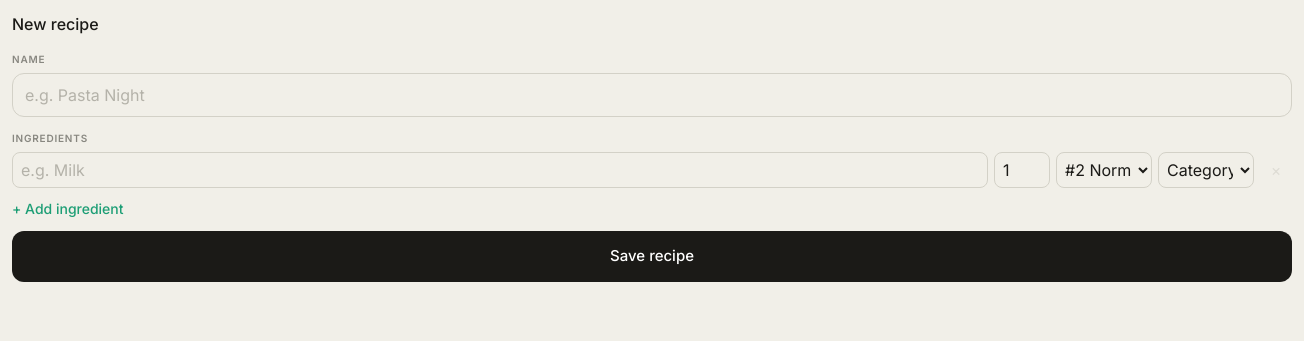
Scenario: RecipeForm › adds ingredient row when clicking + Add ingredient
Click the button "+ Add ingredient". click: (68, 209)
box: 12,199 -> 124,219
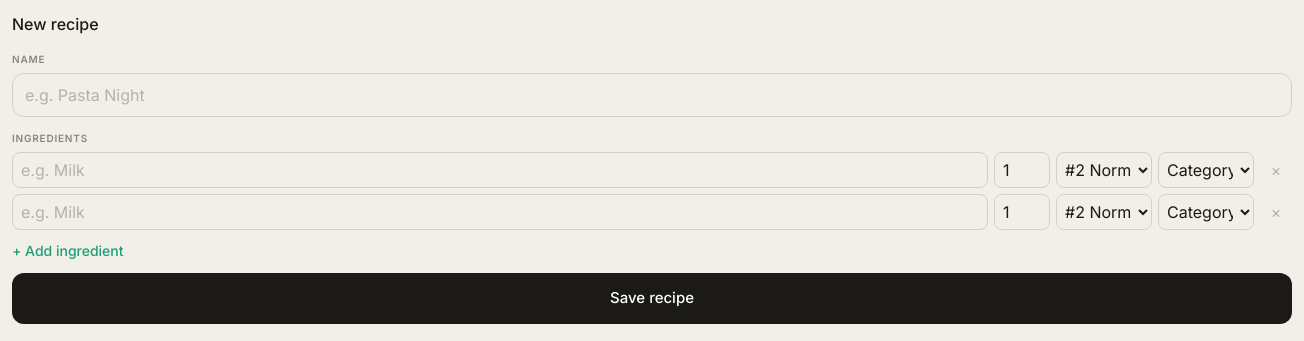
Expected: the number of fields with placeholder "e.g. Milk" is 2, 12,152 -> 988,188; 12,194 -> 988,230
